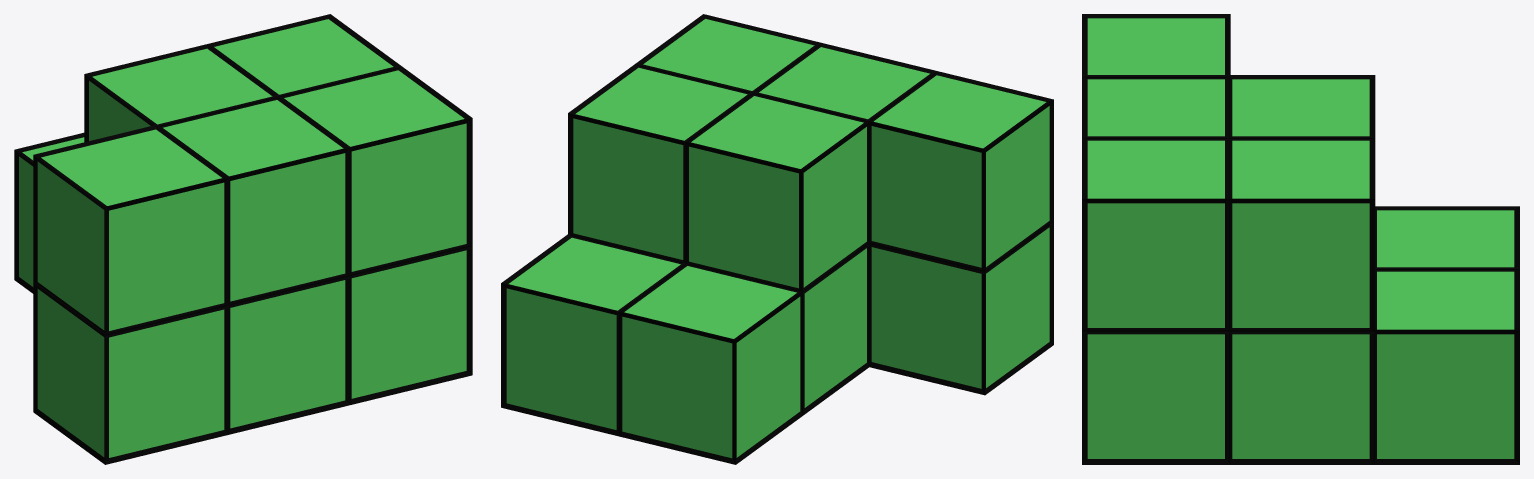
The picture shows the model from 3 angles, left to right: view 1: azimuth 30°, elevation 25°; view 2: azimuth 150°, elevation 25°; view 3: azimuth 270°, elevation 25°; orthographic projection. The views are drawn at different scales.
Visible parts, largest first — view 1: a2:Mesh; view 2: a2:Mesh; view 3: a2:Mesh.
Boxes of the visible parts, bbox=[...] form: a2:Mesh: bbox=[14, 14, 472, 464]; a2:Mesh: bbox=[501, 14, 1053, 464]; a2:Mesh: bbox=[1082, 14, 1519, 464].
Size of the model in its own units: 6.06 by 4.06 by 6.06.
